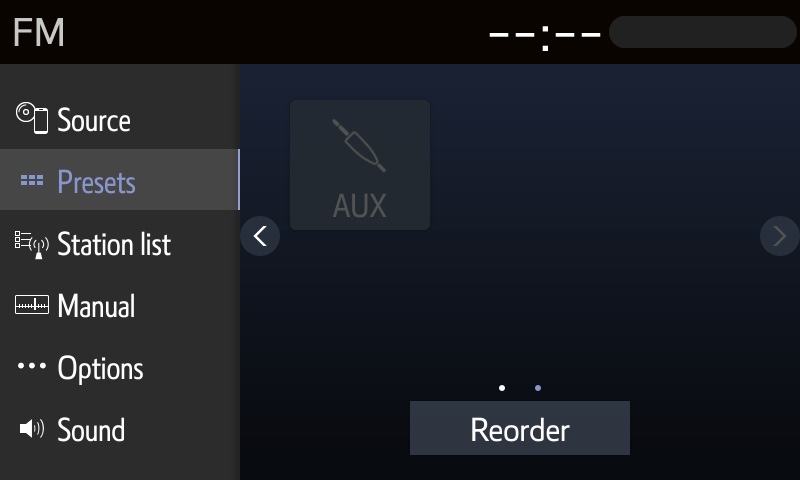touchPart: (411, 403, 630, 454), (4, 225, 178, 269), (10, 95, 134, 143), (8, 410, 136, 450), (5, 289, 141, 324), (5, 354, 148, 386), (240, 216, 282, 257)
untouchPart: (288, 100, 429, 230), (606, 15, 799, 49), (9, 161, 142, 202), (474, 13, 602, 55), (9, 12, 79, 52), (755, 216, 800, 256)
